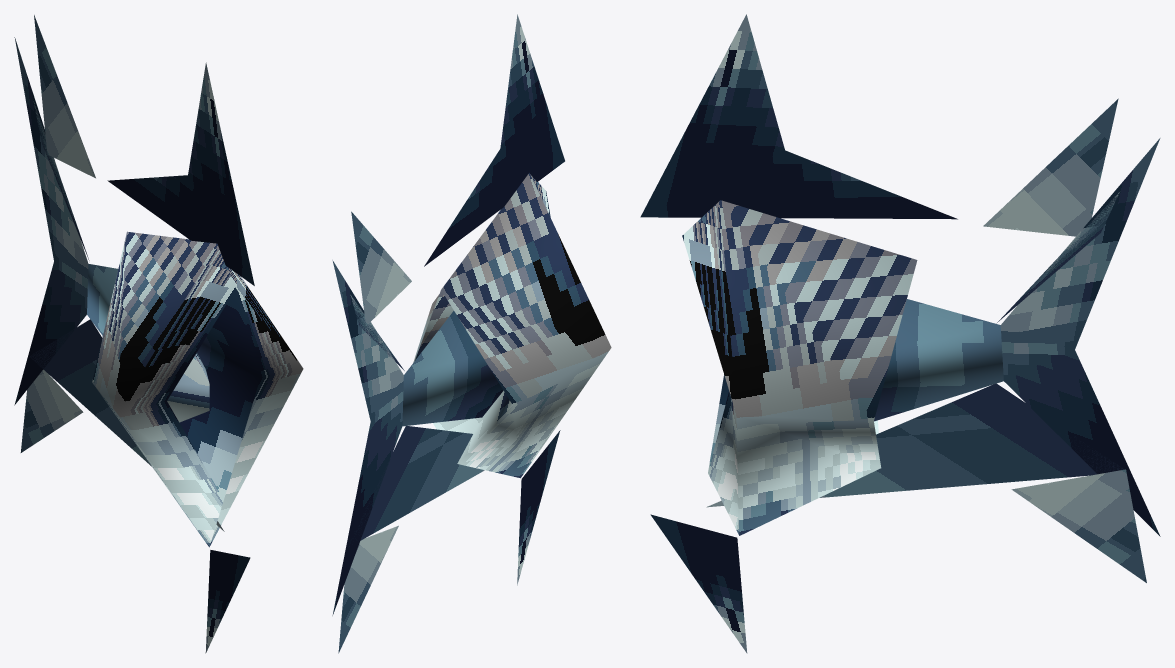
The picture shows the model from 3 angles, left to right: view 1: azimuth 30°, elevation 25°; view 2: azimuth 150°, elevation 25°; view 3: azimuth 270°, elevation 25°; orthographic projection. The views are drawn at different scales.
Visible parts, largest first — view 1: 4870fish80d; view 2: 4870fish80d; view 3: 4870fish80d.
Boxes of the visible parts, bbox=[...] form: 4870fish80d: bbox=[14, 15, 303, 653]; 4870fish80d: bbox=[332, 14, 611, 653]; 4870fish80d: bbox=[640, 14, 1160, 653].
Bounding box in the file's own units: 0.2285 × 0.696 × 0.5129.
Materials: 1 (1 with a texture image).
